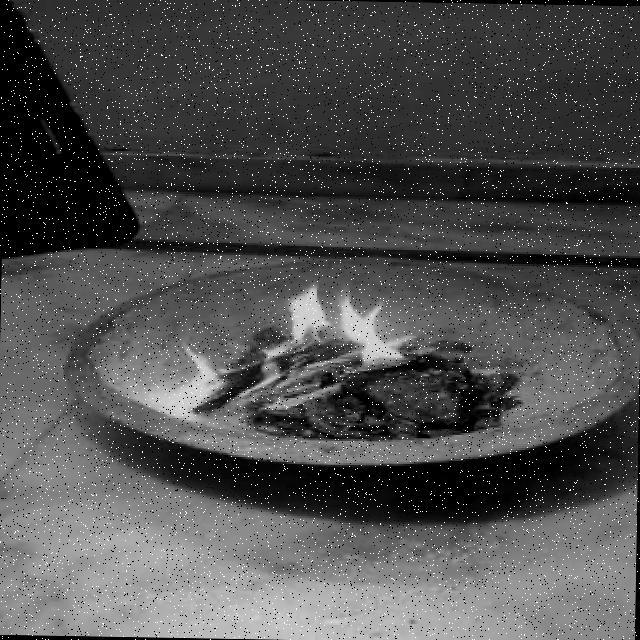Fire: (169, 290, 407, 418)
